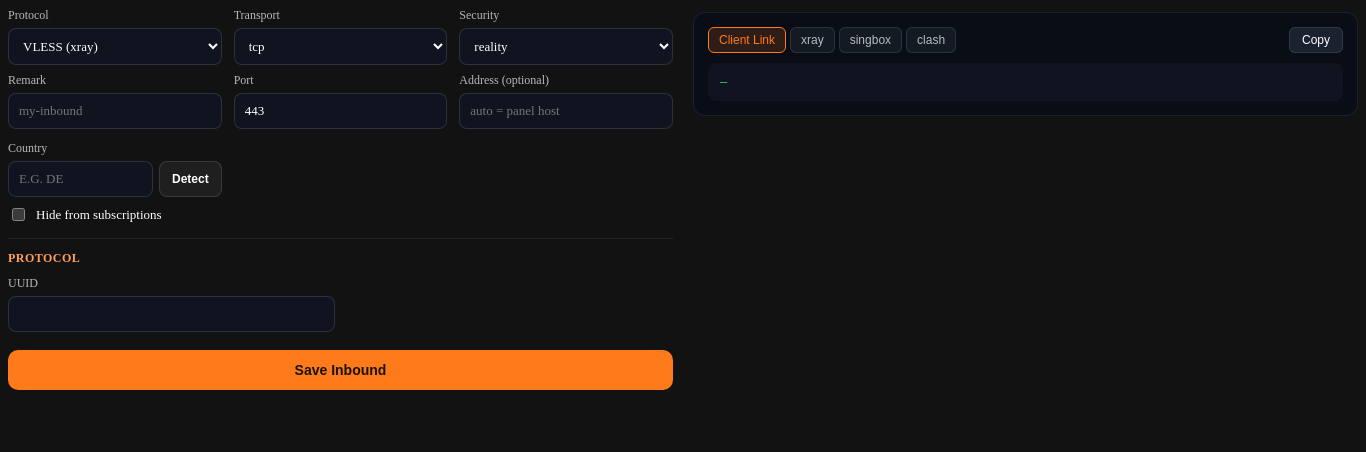
Test: InboundForm capability matrix › moves the selection off a security that the new transport invalidates, and says so
This screenshot has width=1366, height=452.
Expected: the dropdown with test id "security-select" shows "reality", x1=459 y1=28 x2=673 y2=65
Select "ws" in the dropdown with test id "transport-select" at (341, 46), box x1=234 y1=28 x2=447 y2=65
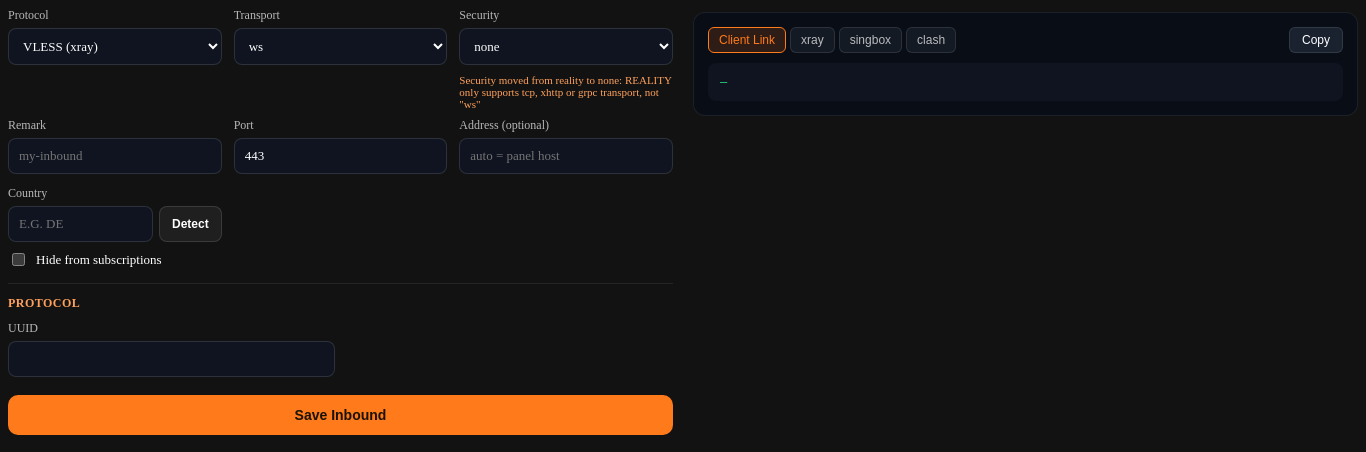
Expected: the text with test id "security-moved" shows "REALITY only supports", x1=459 y1=74 x2=672 y2=110
